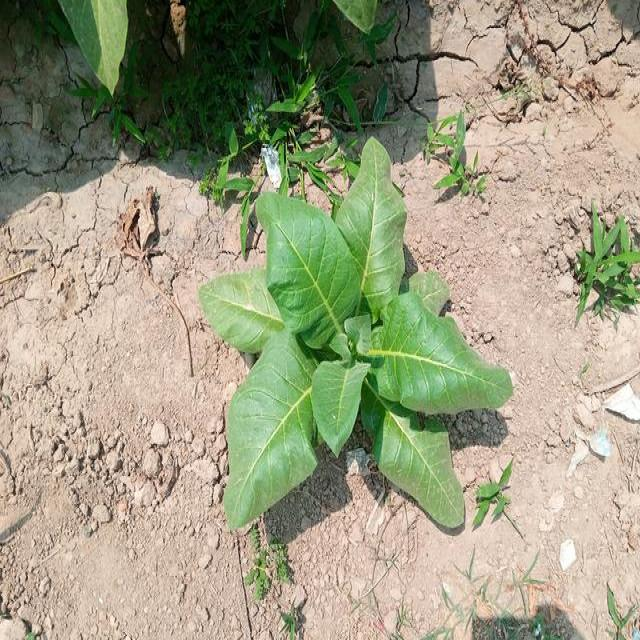crop: (192, 179, 496, 526), (50, 0, 136, 90)
